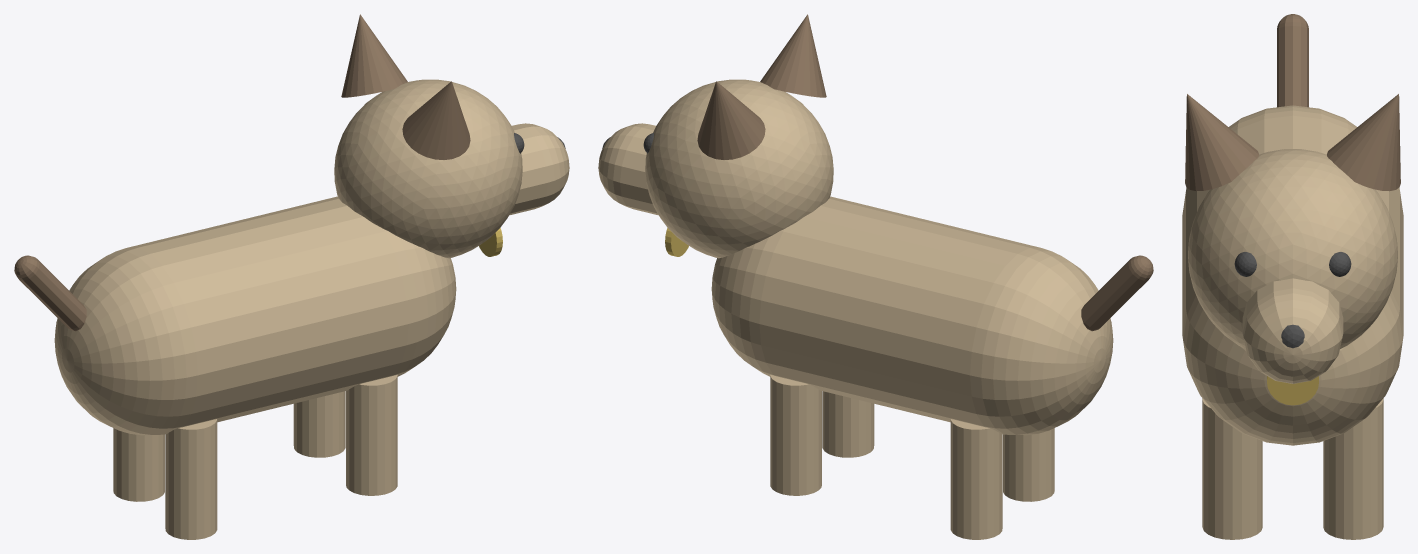
File: sample-dog.glb
3 views of the same model, side by side, from view 1: azimuth 30°, elevation 25°; view 2: azimuth 150°, elevation 25°; view 3: azimuth 270°, elevation 25° (orthographic). The views are drawn at different scales.
Parts seen in each view (by area): view 1: geometry_0; view 2: geometry_0; view 3: geometry_0.
Boxes of the visible parts, x1,y1,x2,y2 form: geometry_0: (14, 14, 569, 539); geometry_0: (598, 14, 1153, 539); geometry_0: (1182, 14, 1403, 539).
Bounding box in the file's own units: 3.64 × 2.56 × 1.1.
